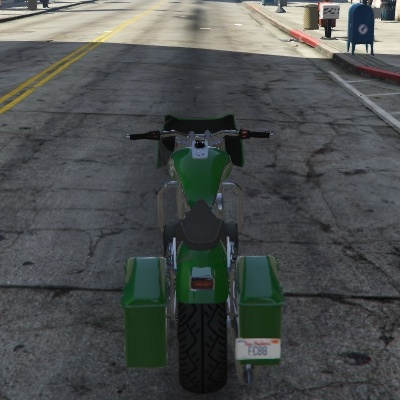off: (185, 259, 220, 298)
